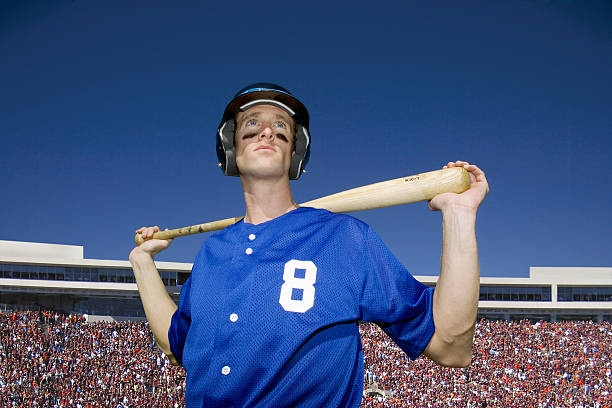bita: (296, 163, 473, 219), (121, 217, 242, 244)
